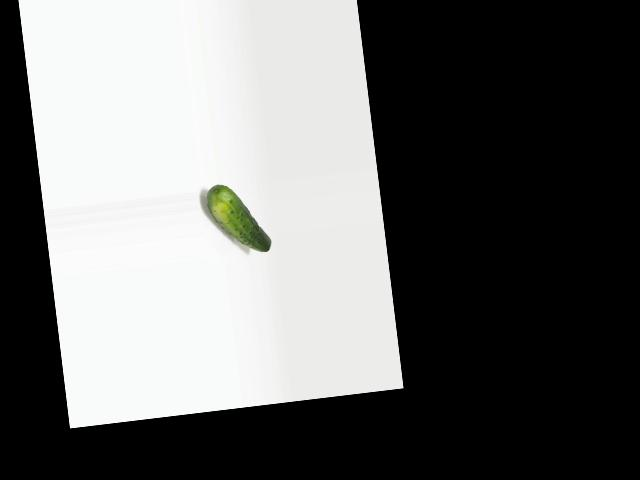cucumber: (206, 180, 272, 258)
